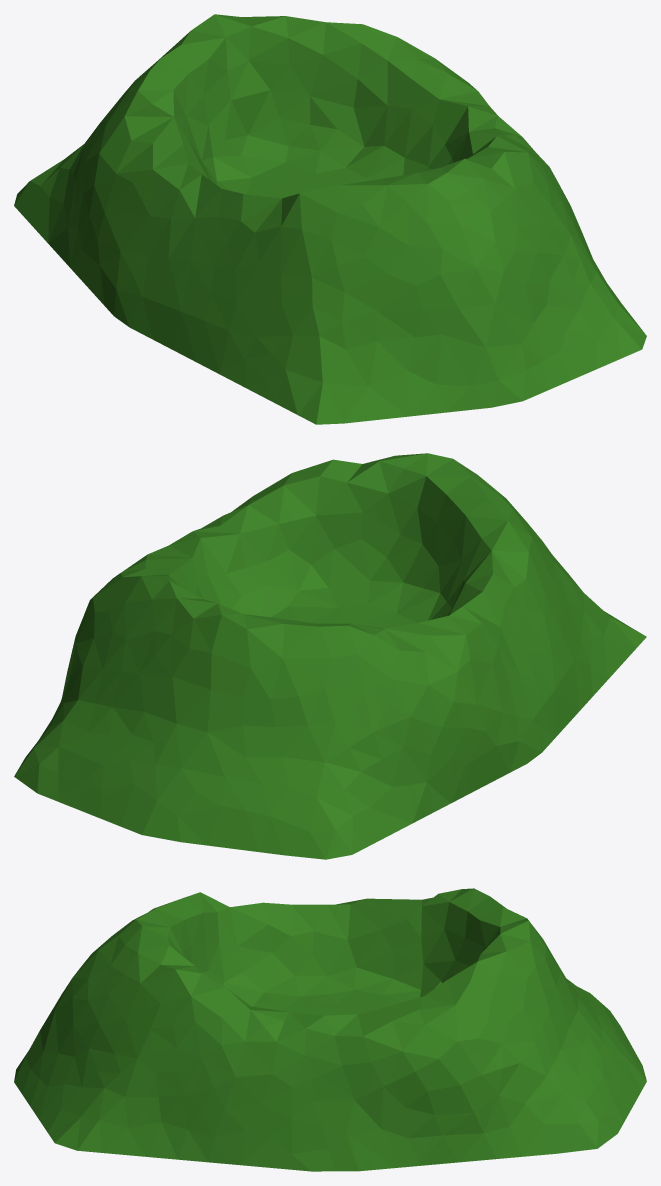
File: Hanlla_MT.fbx
The picture shows the model from 3 angles, top to bottom: view 1: azimuth 30°, elevation 25°; view 2: azimuth 150°, elevation 25°; view 3: azimuth 270°, elevation 25°; orthographic projection. The views are drawn at different scales.
Parts seen in each view (by area): view 1: Hanlla_MT; view 2: Hanlla_MT; view 3: Hanlla_MT.
Boxes of the visible parts, x1,y1,x2,y2 form: Hanlla_MT: (14, 14, 646, 424); Hanlla_MT: (14, 453, 646, 859); Hanlla_MT: (14, 888, 646, 1171).
Bounding box in the file's own units: 2866 × 1129 × 4176.
Materials: 1 (1 with a texture image).
